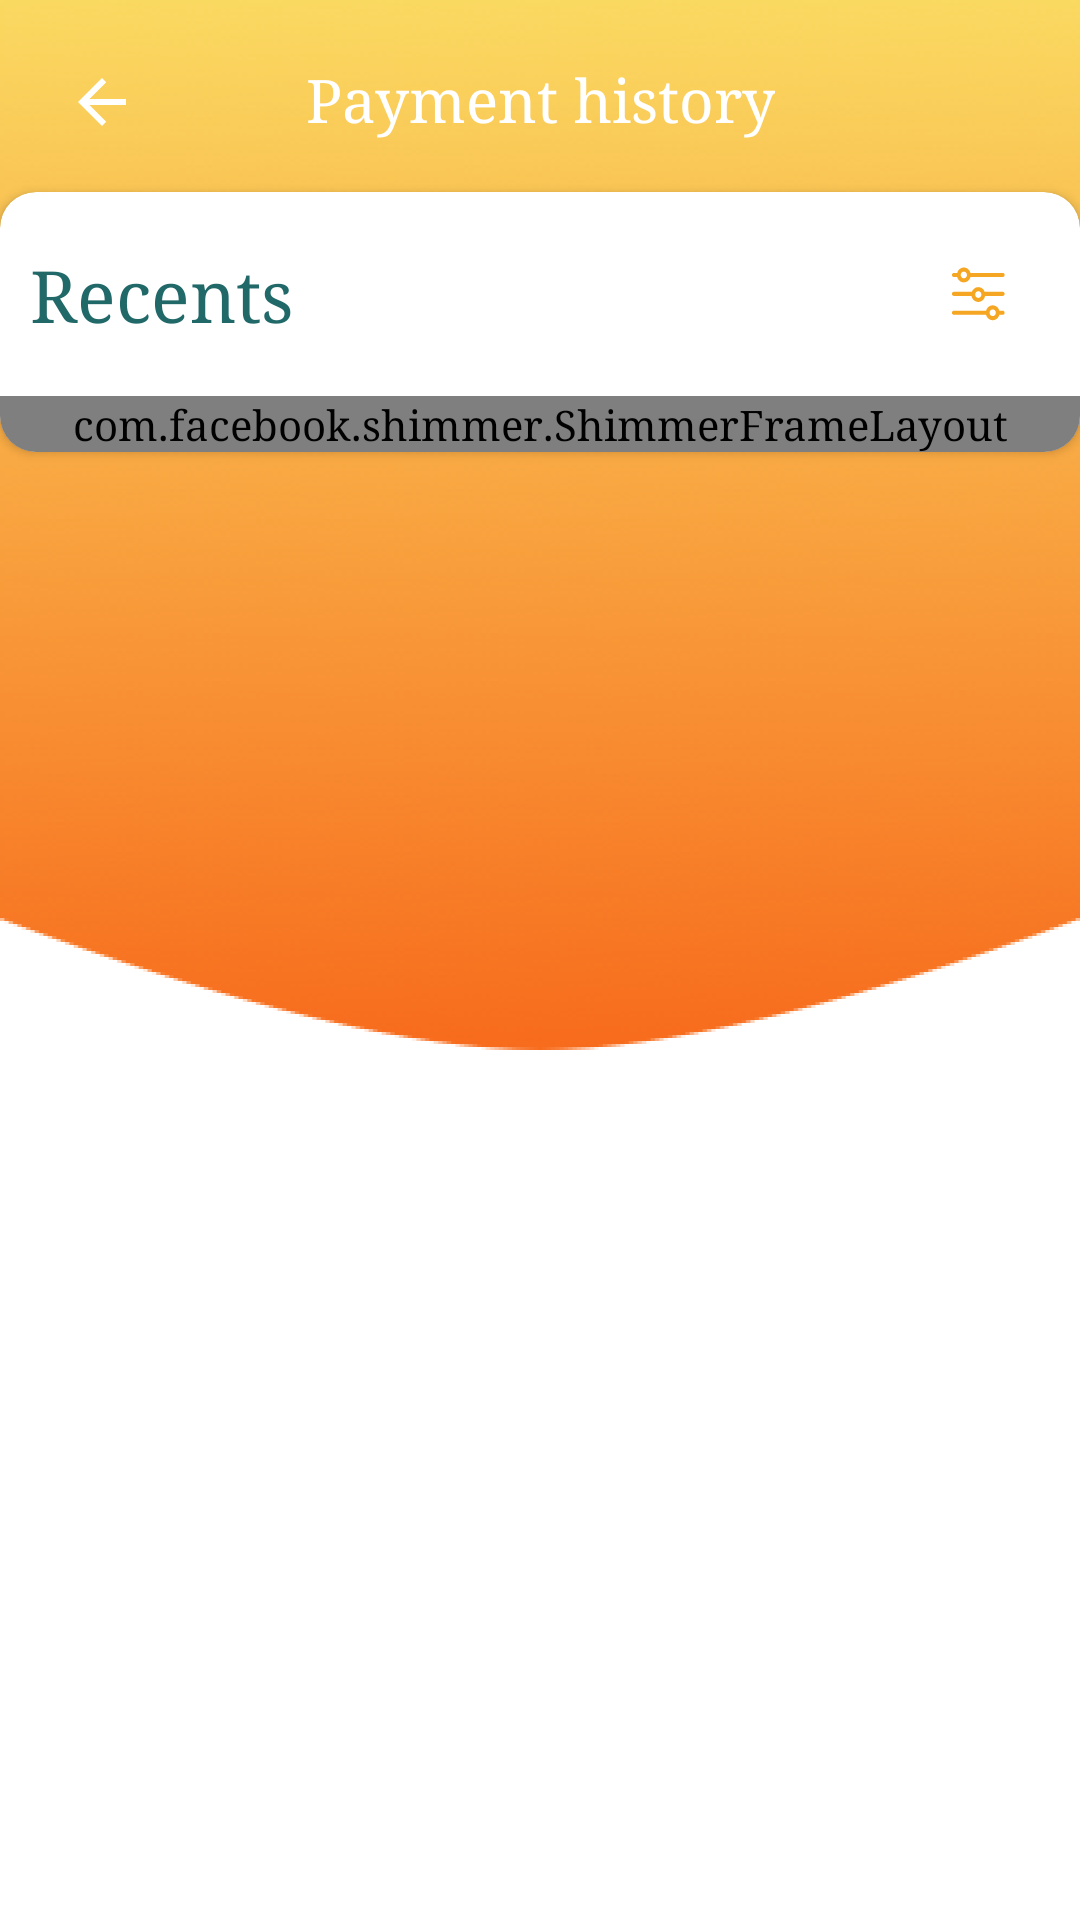

Named icons in this screenshot (1080px×1920px) and their bounding boxes, (x1, y1, x2, y2):
arrow back: (78, 78, 126, 126)
filter: (952, 267, 1005, 321)
